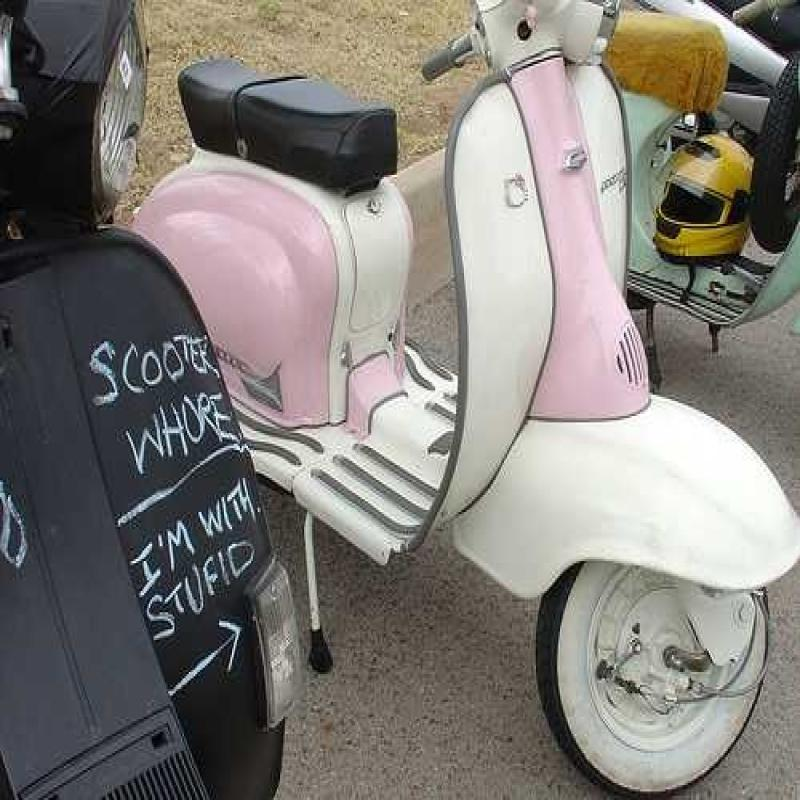bike: (184, 2, 800, 793)
